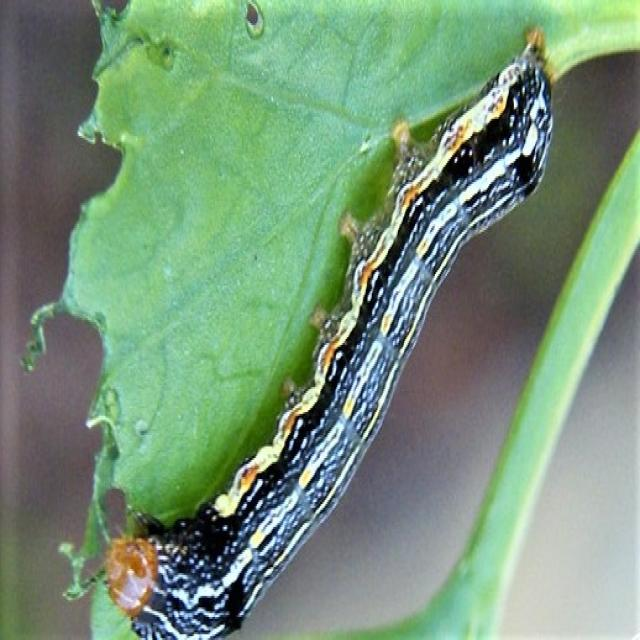armyworm: (61, 23, 556, 638)
